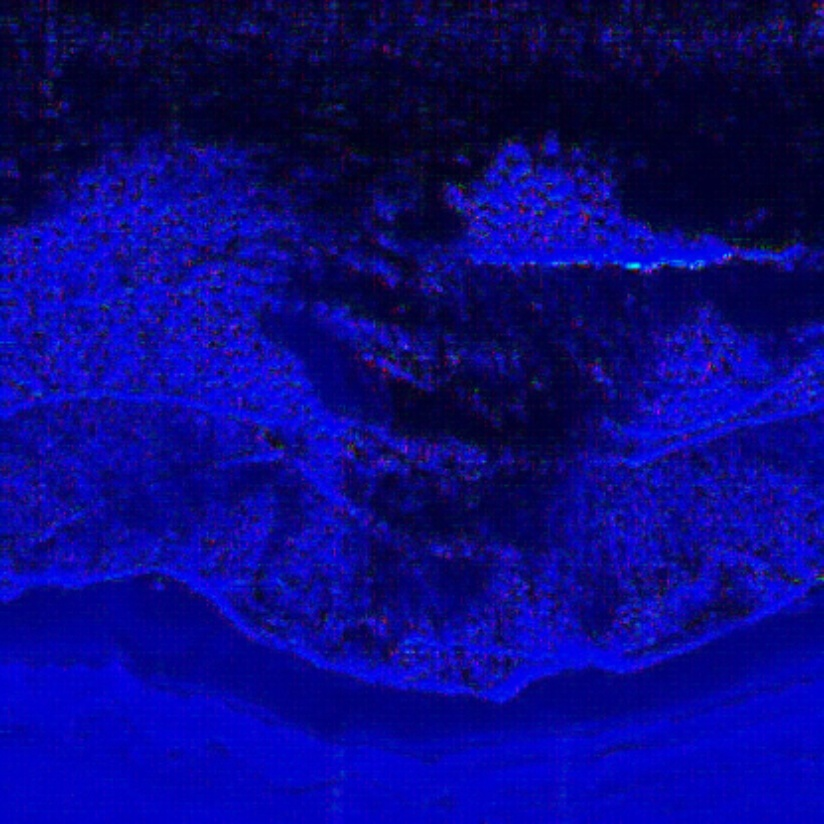rip_current: (233, 184, 670, 645)
